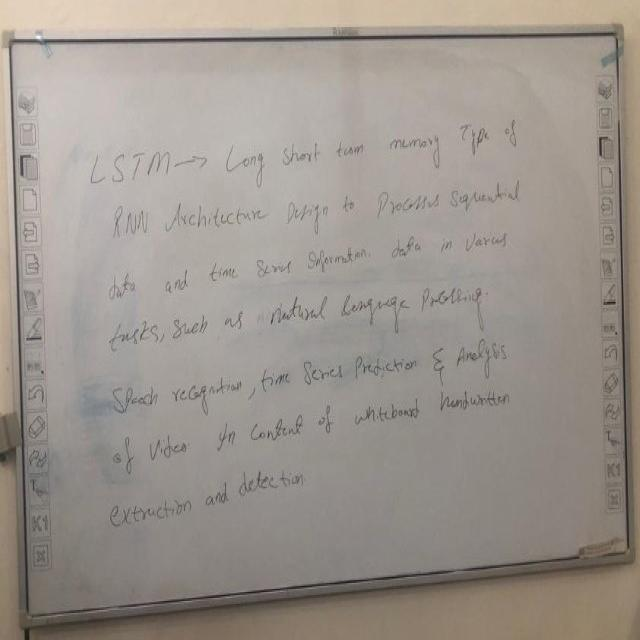White-board: (11, 27, 633, 627)
